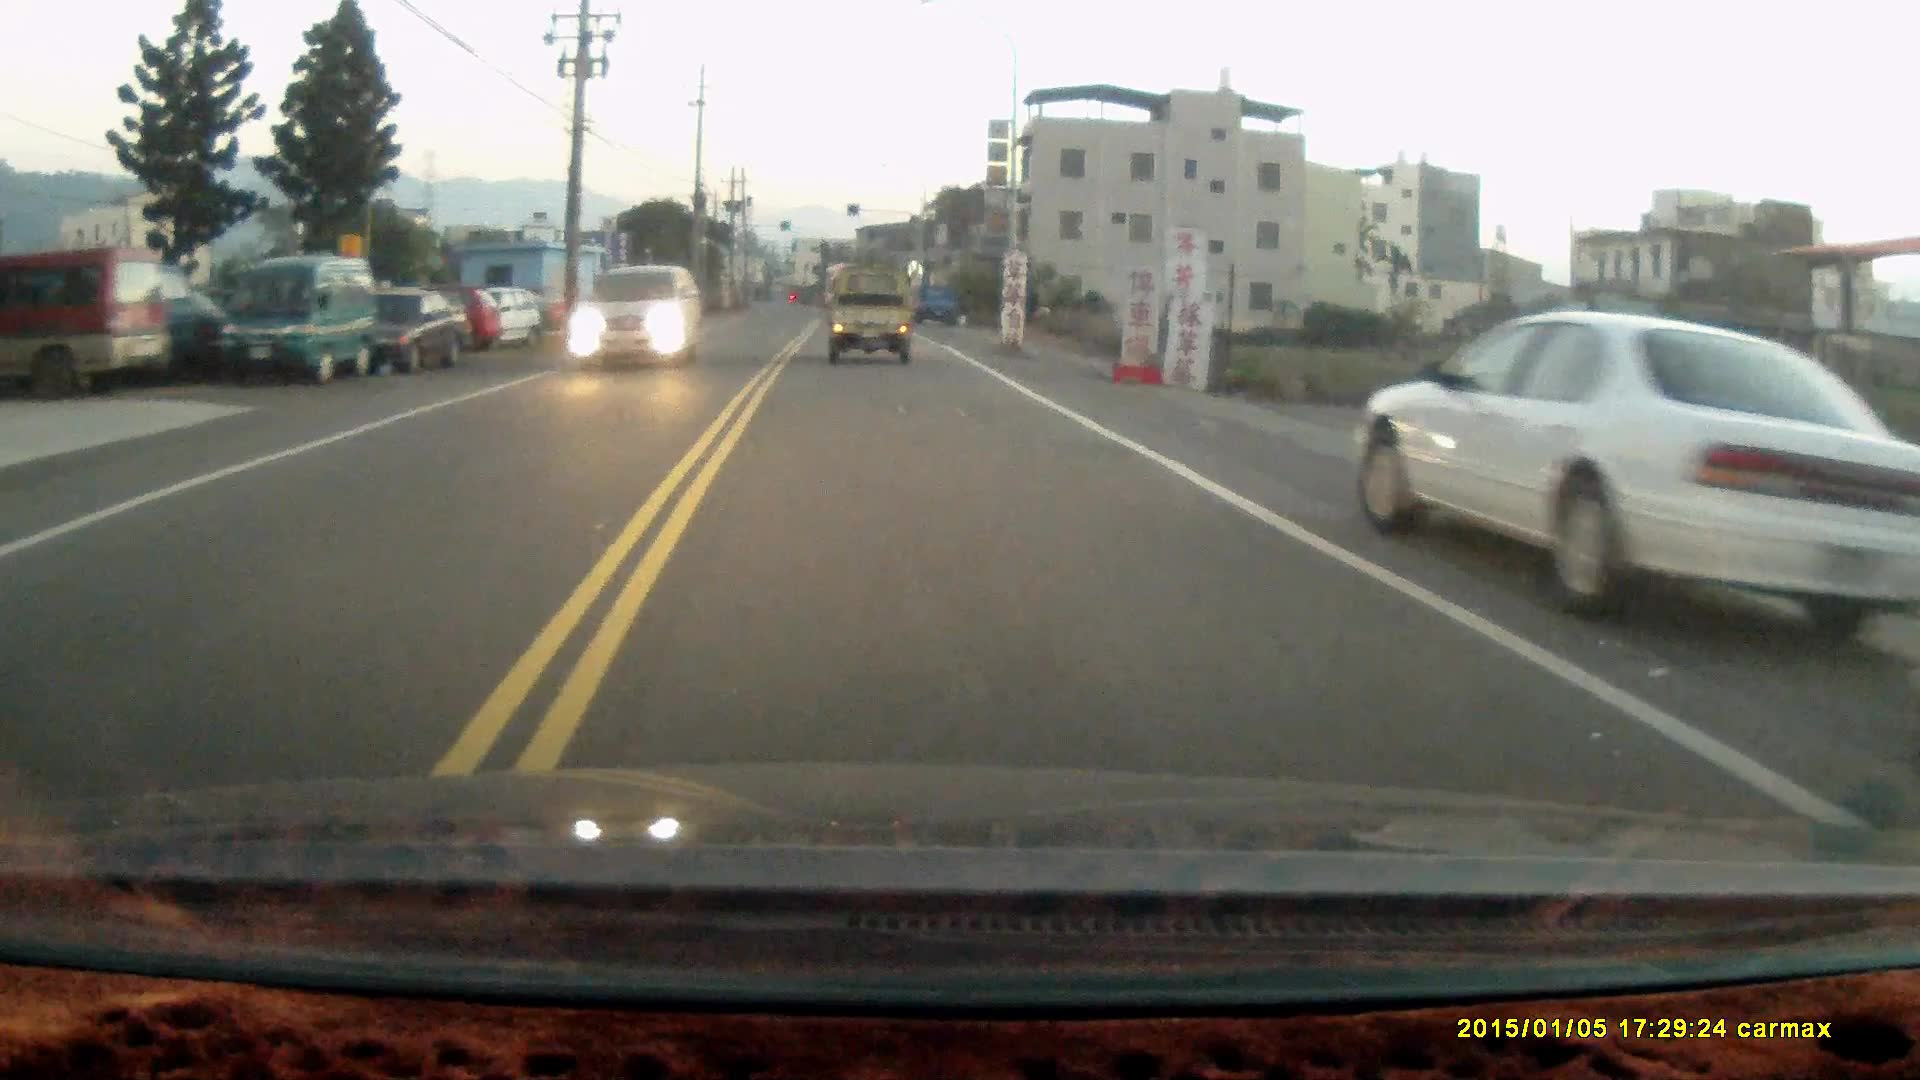vehicle: (1354, 309, 1920, 630), (1, 247, 171, 392), (222, 255, 380, 382), (564, 264, 700, 377), (827, 280, 918, 373), (380, 291, 475, 376), (468, 293, 538, 360)
